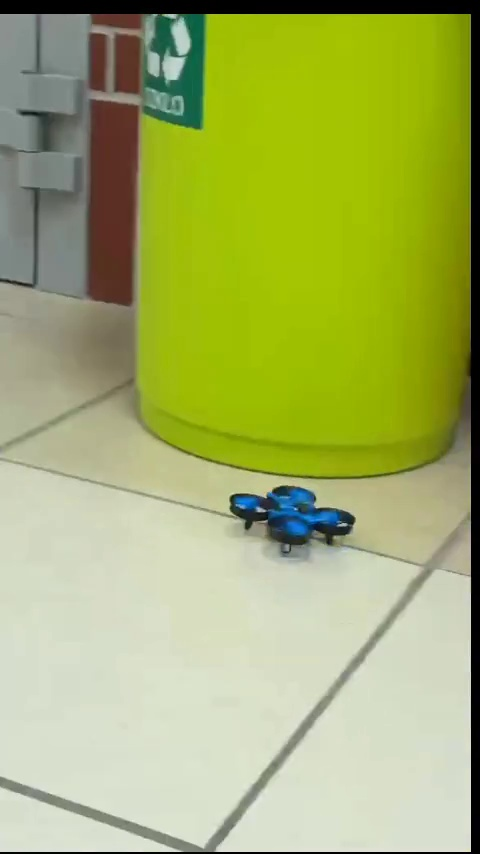drone: (229, 485, 353, 555)
